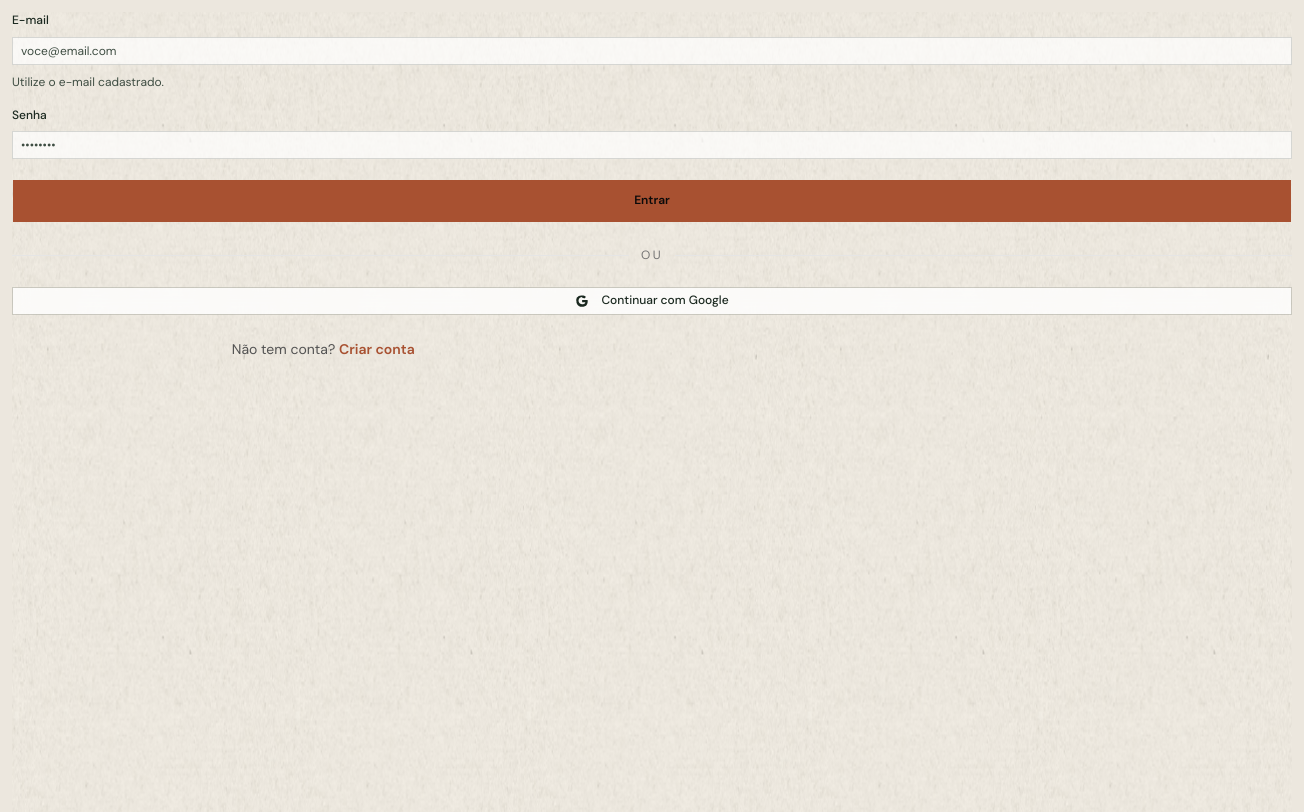
Test: SignInForm › exibe erro inesperado quando signIn.email lança exceção
Type "teste@email.com" into the field with placeholder "voce@email.com" at (652, 50), box x1=12 y1=36 x2=1292 y2=64
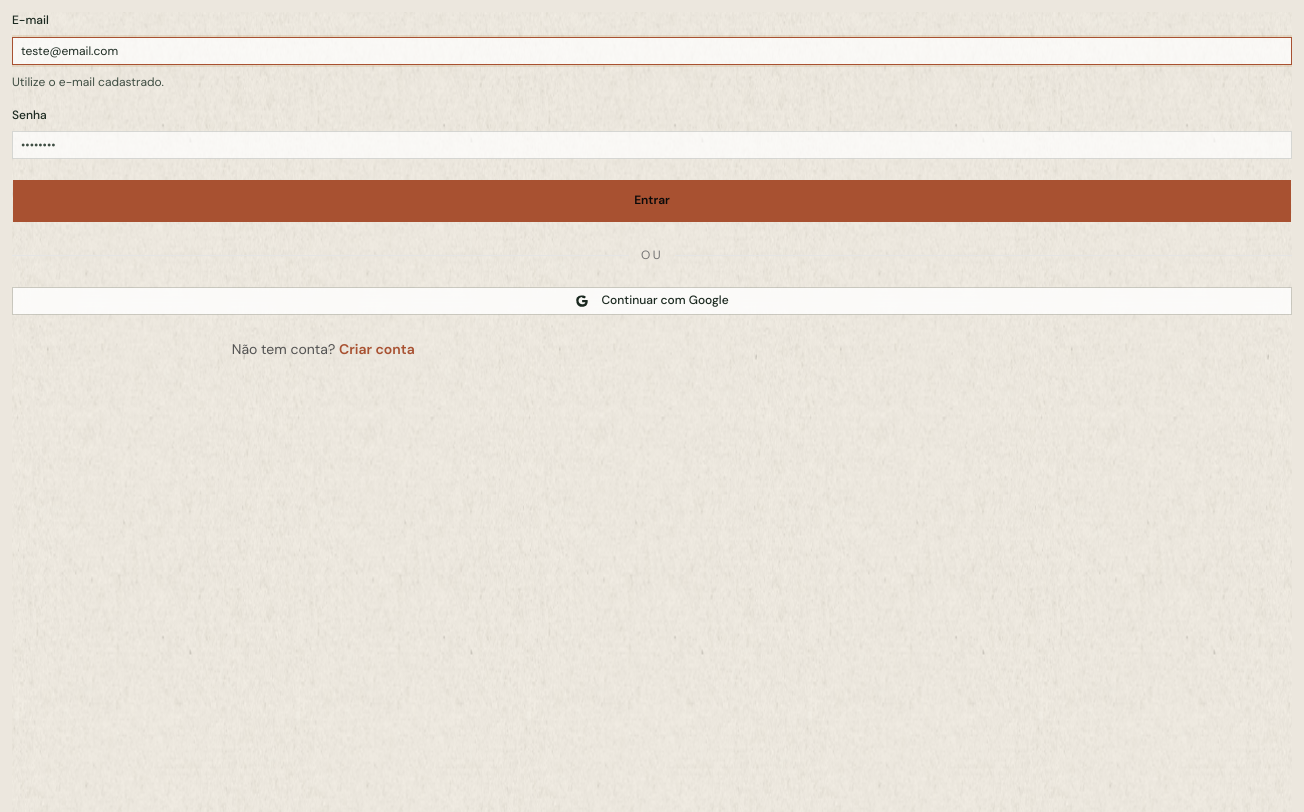
Type "12345678" into the password field with placeholder "••••••••" at (652, 145), box x1=12 y1=131 x2=1292 y2=159
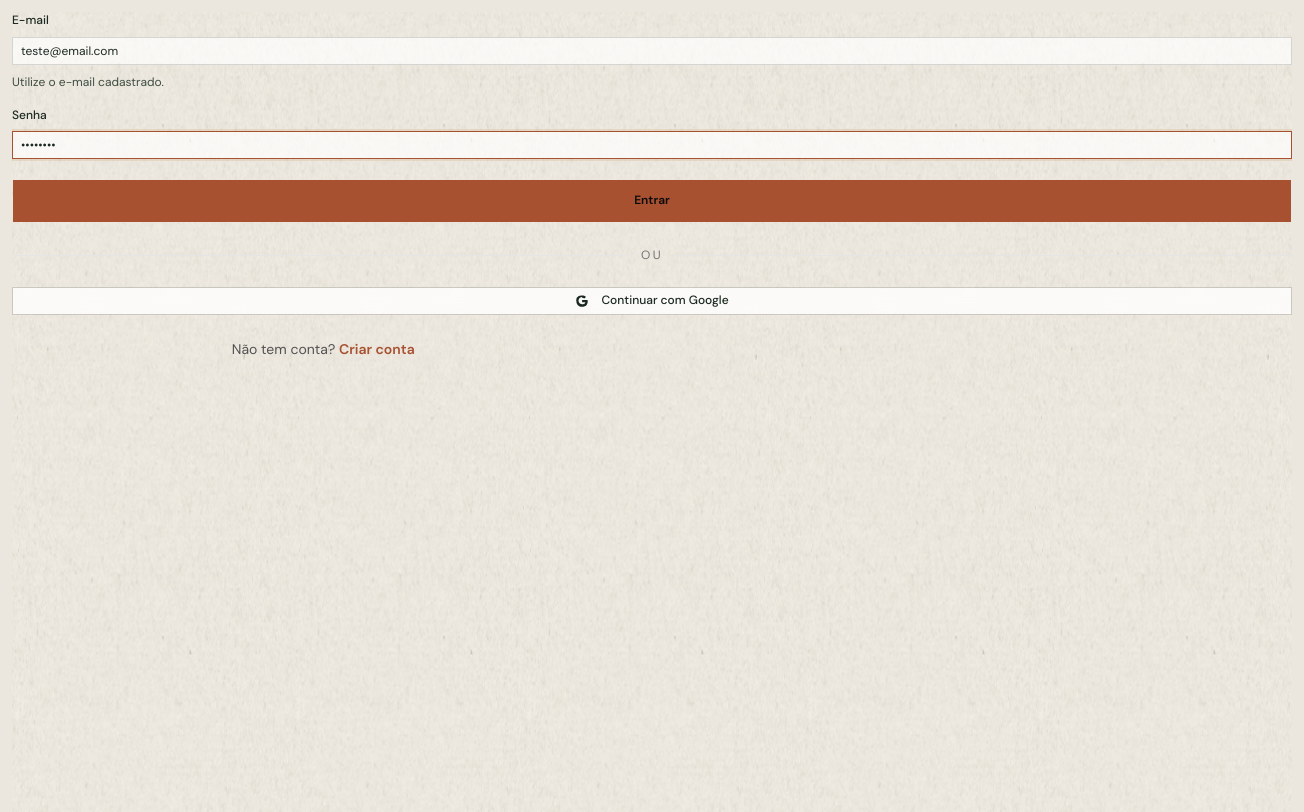
Click the button "Entrar" at (652, 201), box x1=12 y1=179 x2=1292 y2=223
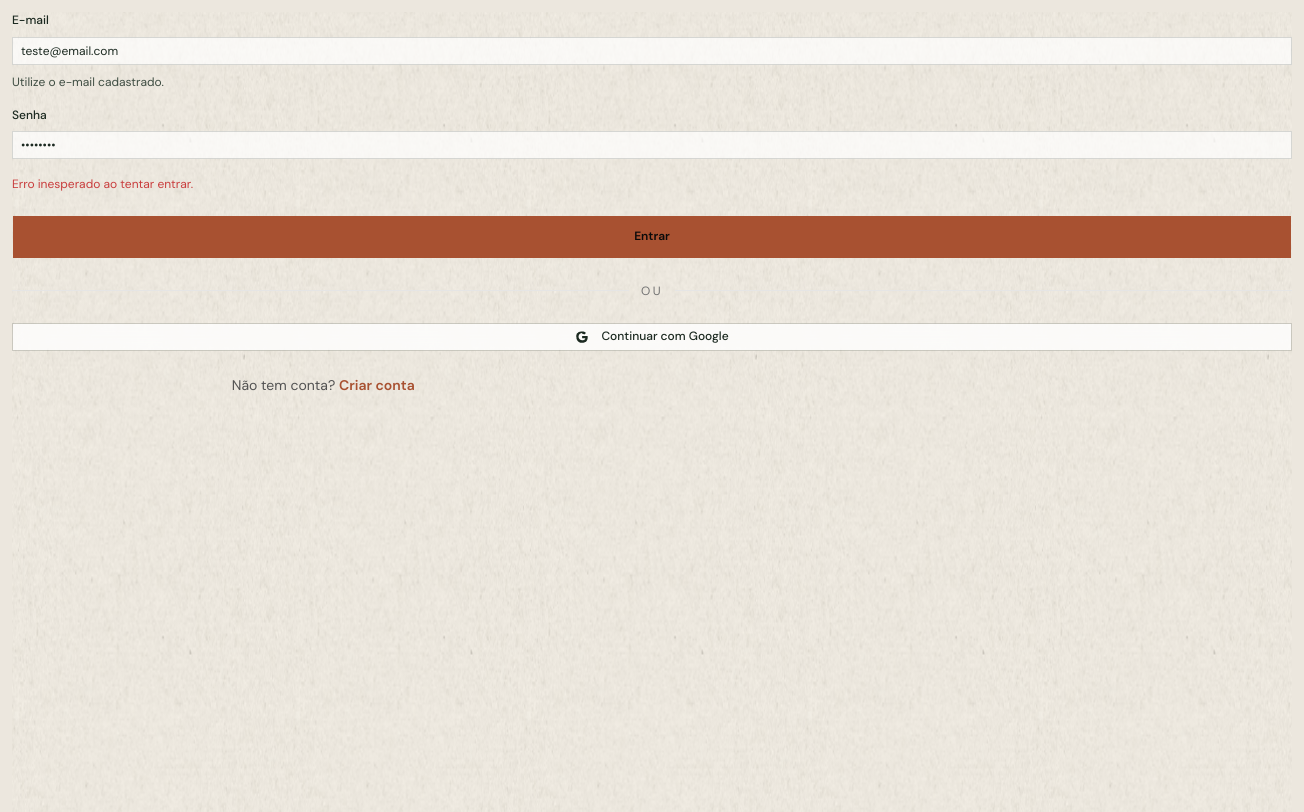
Expected: the text "Erro inesperado ao tentar entrar." is shown, x1=12 y1=176 x2=193 y2=192
